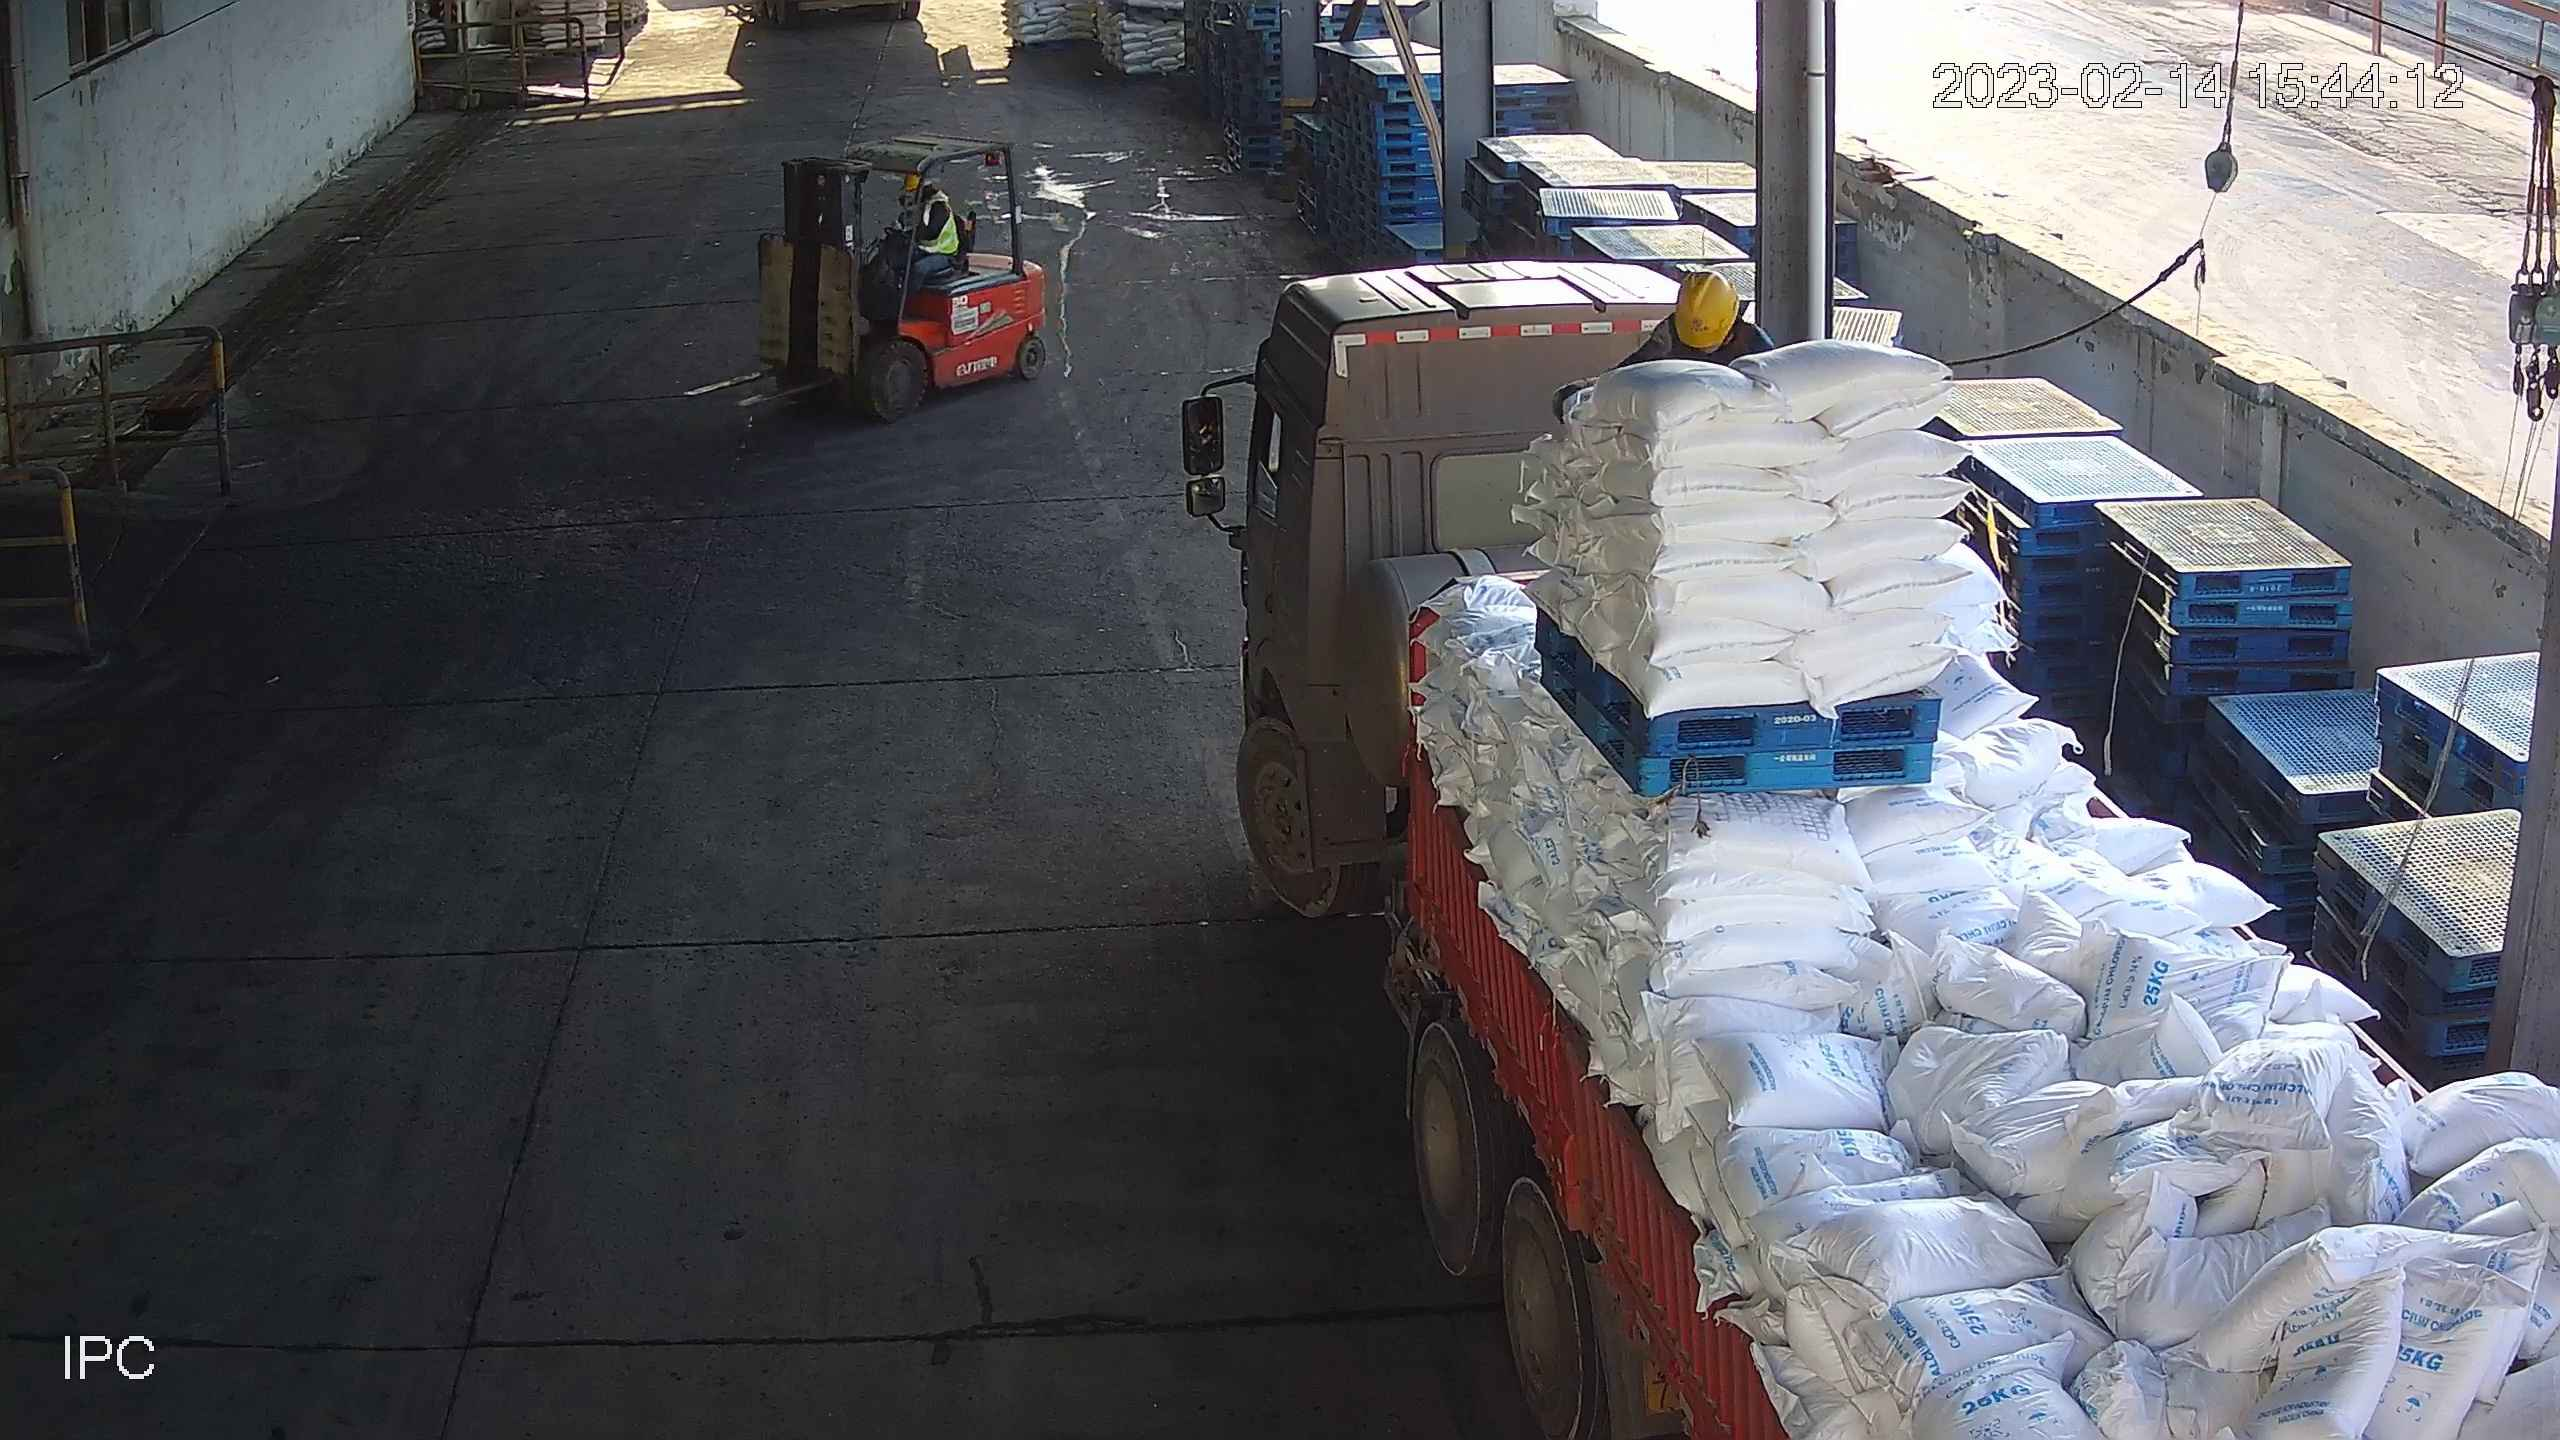helmet: (1679, 269, 1744, 345)
truck: (1192, 258, 2560, 1440)
